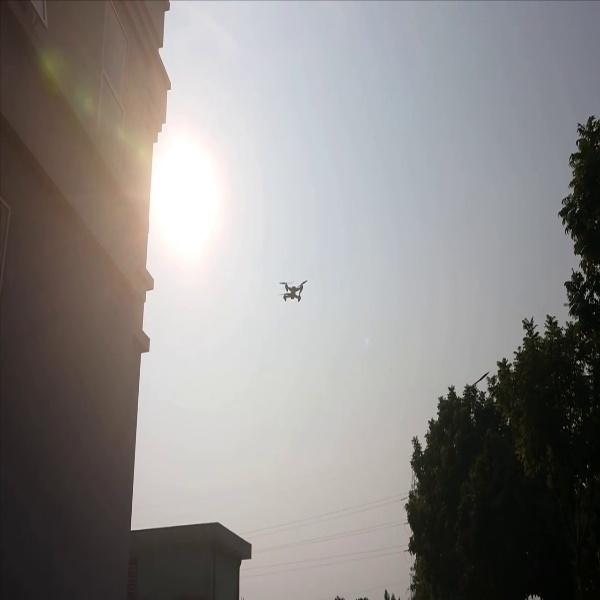drone: (275, 272, 312, 310)
